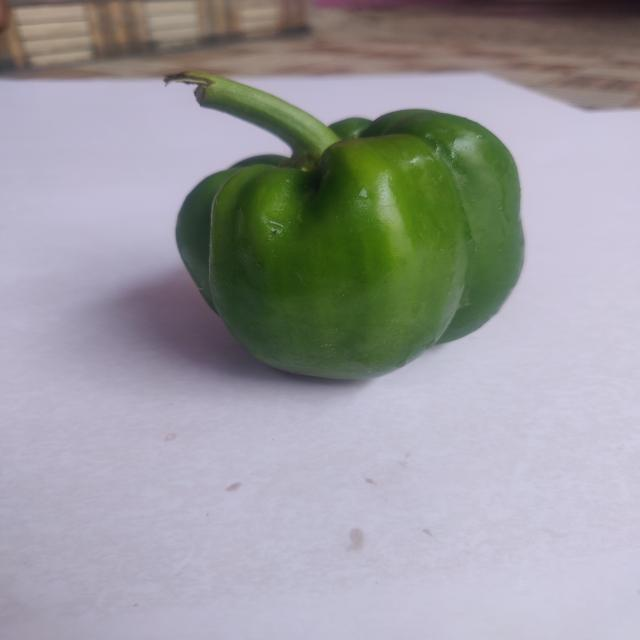Capsicum: (145, 64, 548, 403)
